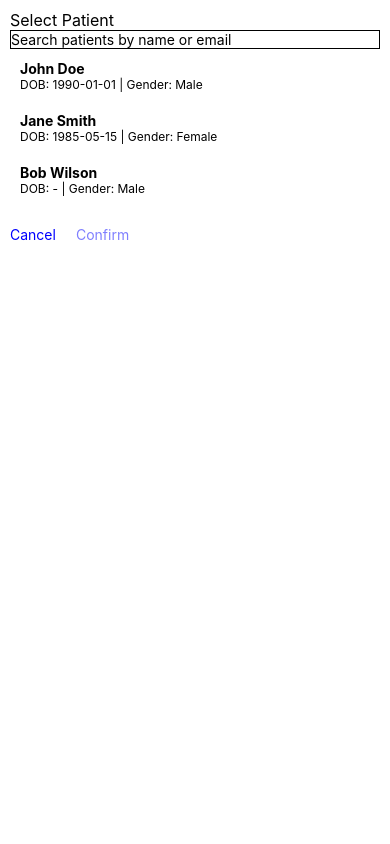
Test: PatientSelectModal › Search functionality › should filter patients by email
The image size is (390, 844).
Expected: the text "Jane Smith" is shown, [20, 112, 96, 129]
Type "jane.smith" into the field with placeholder "Search patients by name or email".
click(195, 40); type("jane.smith")  # box [10, 30, 380, 49]
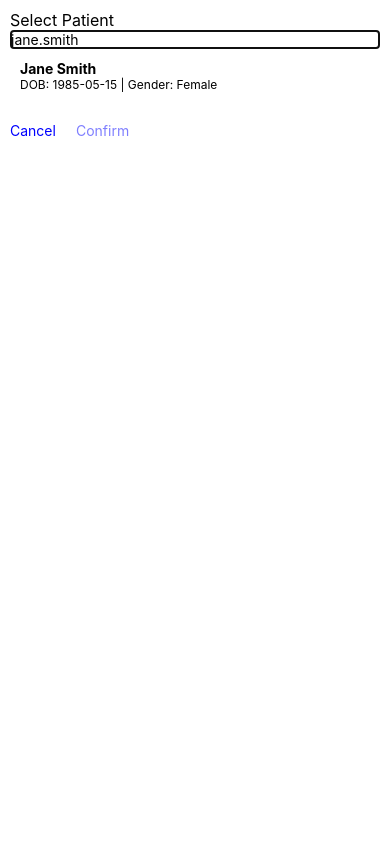
Expected: the text "Jane Smith" is shown, [20, 60, 96, 77]
Expected: the text "John Doe" is gone
Expected: the text "Bob Wilson" is gone
